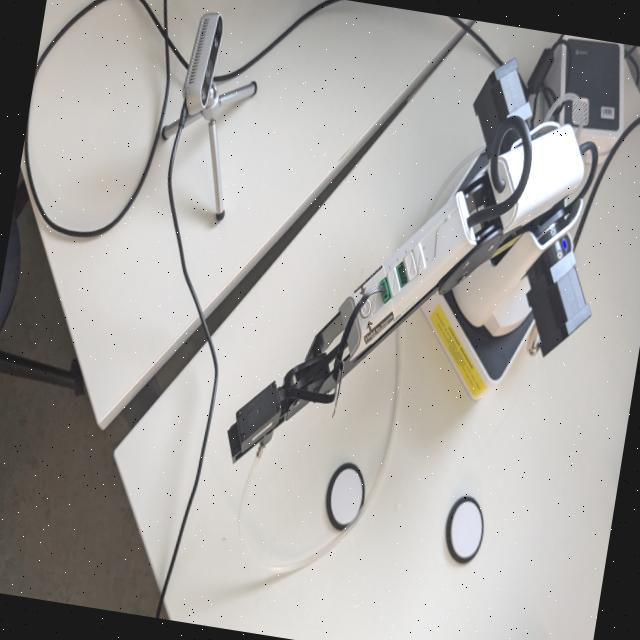Robot-end-effector-HF8z: (217, 366, 292, 481)
